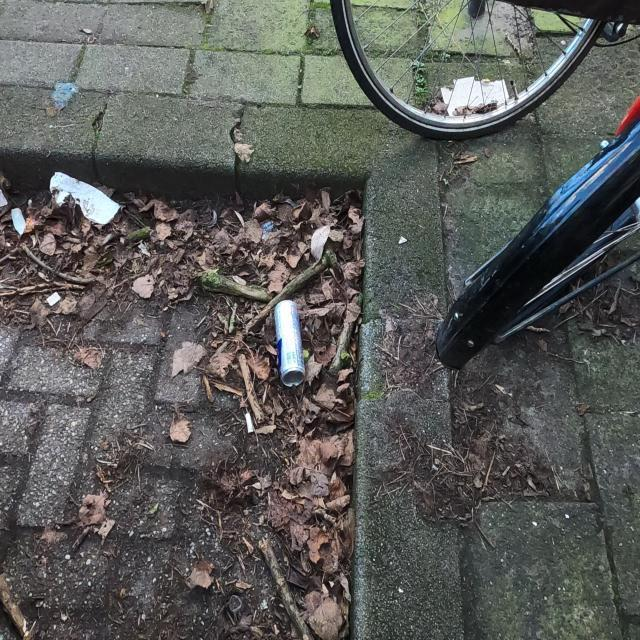Can-Metal: (273, 298, 307, 390)
Paper: (48, 169, 122, 226), (440, 75, 510, 117)
